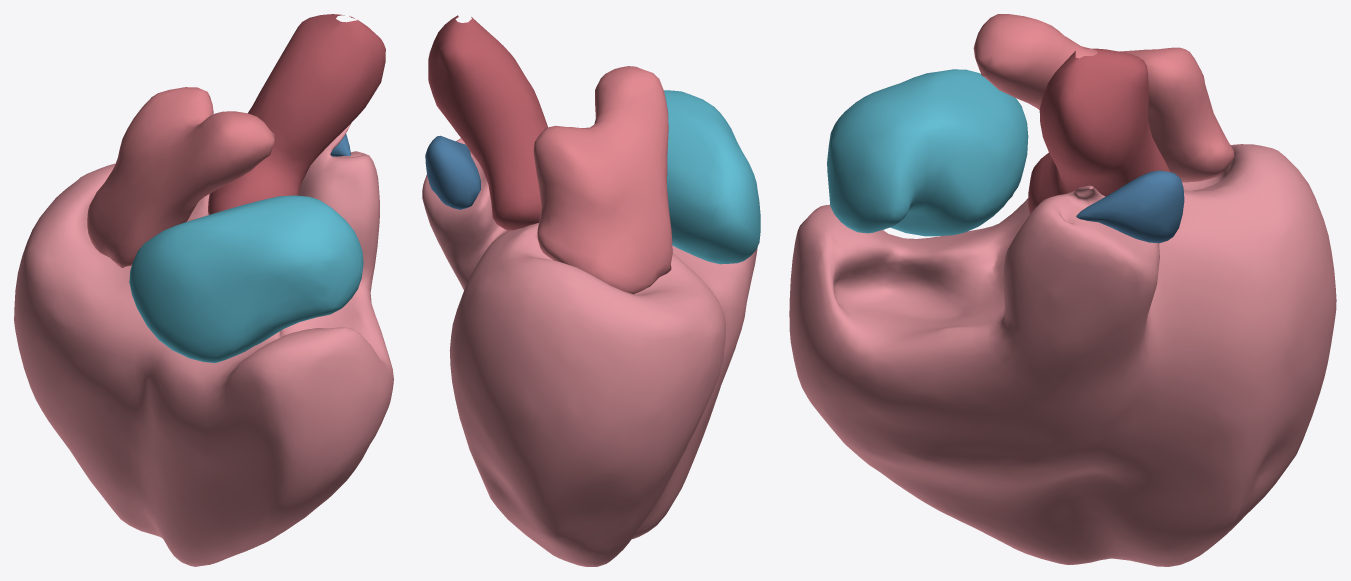
The model's file is frame_14.glb.
The picture shows the model from 3 angles, left to right: view 1: azimuth 30°, elevation 25°; view 2: azimuth 150°, elevation 25°; view 3: azimuth 270°, elevation 25°; orthographic projection. The views are drawn at different scales.
Parts seen in each view (by area): view 1: Renderer Node; view 2: Renderer Node; view 3: Renderer Node.
Part boxes in pixels (bbox=[...]): Renderer Node: bbox=[14, 14, 393, 566]; Renderer Node: bbox=[422, 15, 760, 566]; Renderer Node: bbox=[789, 14, 1336, 566].
Bounding box in the file's own units: 107 × 163 × 133.
